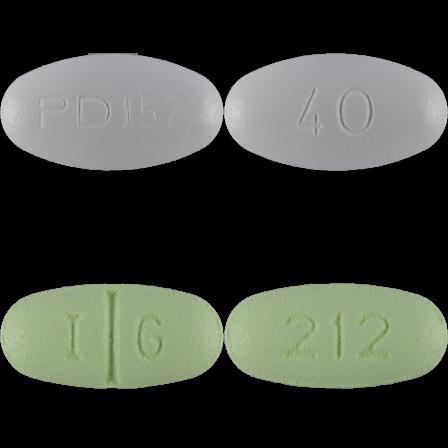68645-483: (0, 0, 224, 224)
